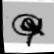not correct: (6, 9, 48, 48)
